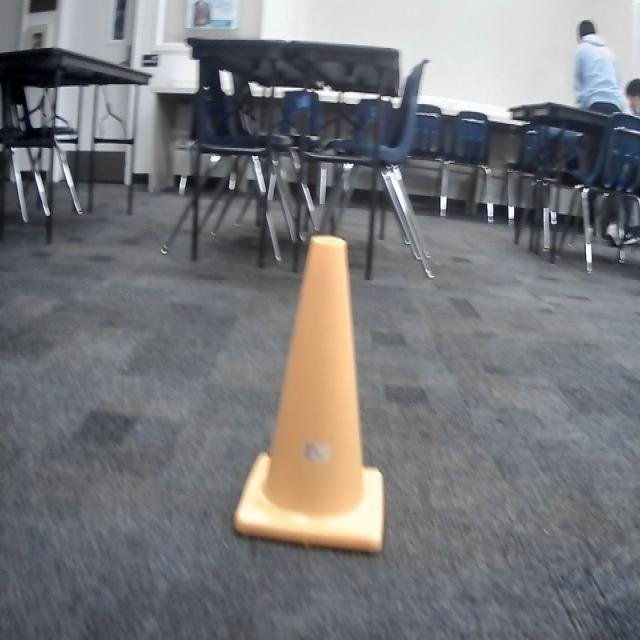cone: (234, 233, 384, 557)
